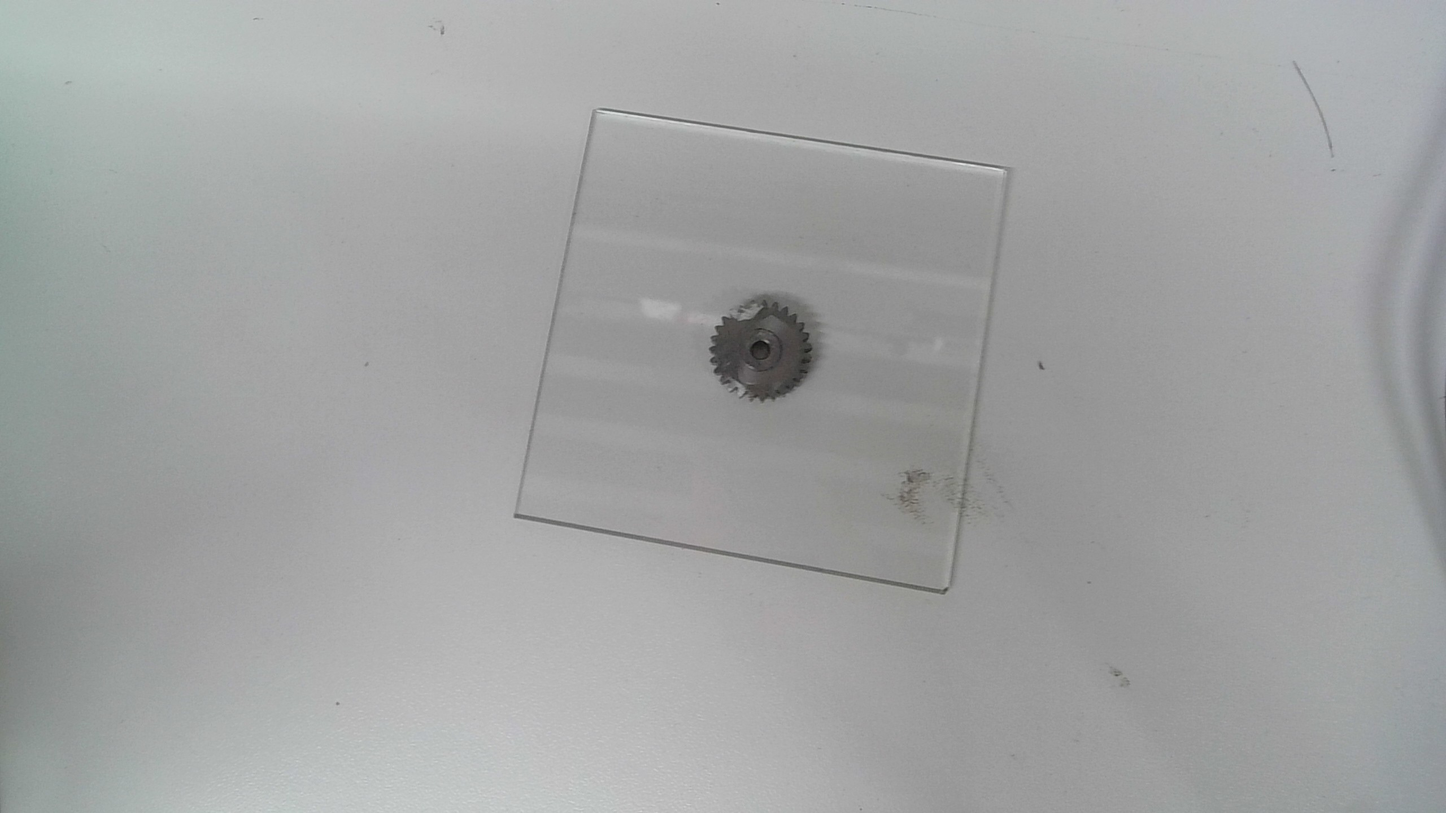gear: (707, 299, 813, 406)
